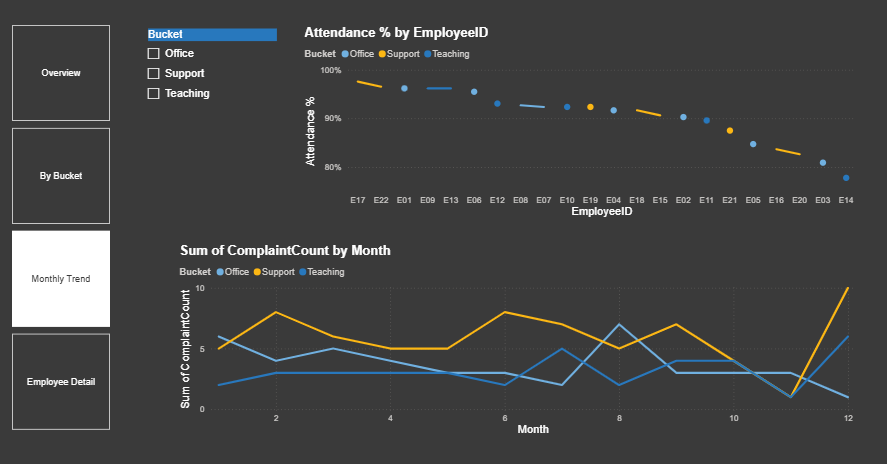

This screenshot's page, from the dashboard's own definition file:
{"tool":"powerbi","page":{"name":" Monthly Trend","canvas":[1280,720],"ordinal":2},"visuals":[{"type":"lineChart","title":"Attendance % by EmployeeID","fields":{"Category":["Attendance.EmployeeID"],"Y":["Employees.Attendance %"],"Series":["Employees.Bucket"]},"box":[434.3,70,797.1,280],"z":0},{"type":"lineChart","title":"Sum of ComplaintCount by Month ","fields":{"Category":["Complaints.Month"],"Y":["Sum(Complaints.ComplaintCount)"],"Series":["Employees.Bucket"]},"box":[255,381.7,975,280],"z":1000},{"type":"slicer","fields":{"Values":["Employees.Bucket"]},"box":[202.9,70,210,140],"z":2000},{"type":"pageNavigator","box":[21.7,70,140,578.3],"z":3000}]}

Visuals, with their boxes on the page's 1280x720 design canvas (x1, y1, x2, y2). These are canvas units, not pixel positions in the 887x464 screenshot, which may show the page scaled, cropped or inside an application window:
"Attendance % by EmployeeID" lineChart: select_region(434, 70, 1231, 350)
"Sum of ComplaintCount by Month " lineChart: select_region(255, 382, 1230, 662)
slicer - Employees.Bucket: select_region(203, 70, 413, 210)
pageNavigator: select_region(22, 70, 162, 648)
